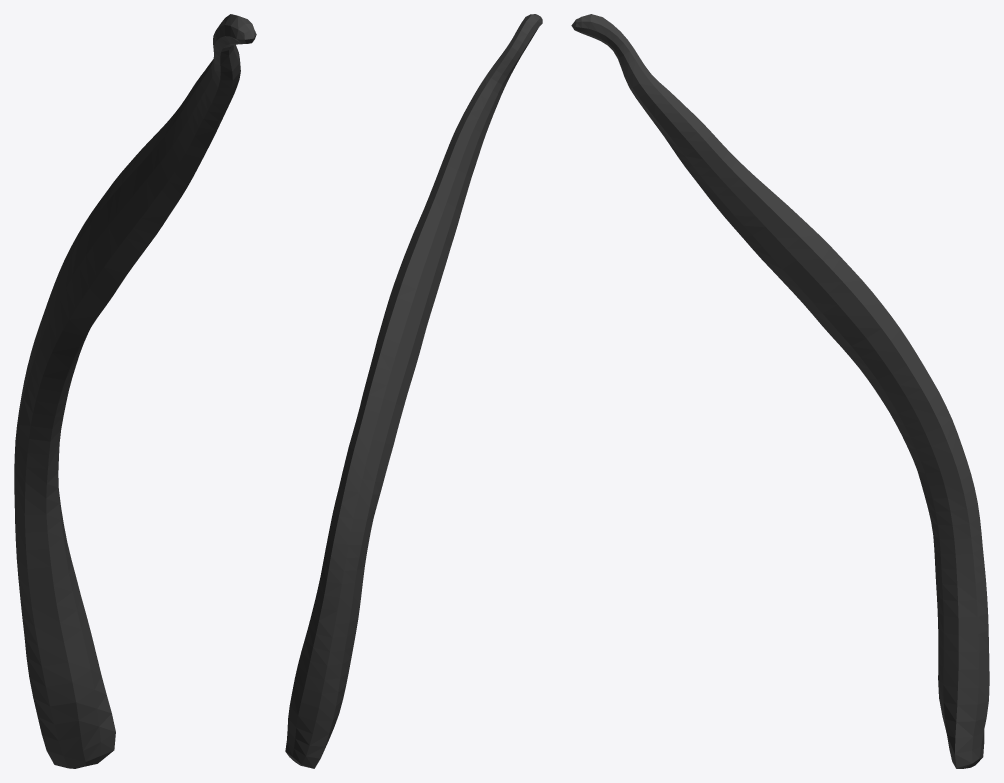
File: Cleidocephalicus_mast.glb
The picture shows the model from 3 angles, left to right: view 1: azimuth 30°, elevation 25°; view 2: azimuth 150°, elevation 25°; view 3: azimuth 270°, elevation 25°; orthographic projection. The views are drawn at different scales.
Parts seen in each view (by area): view 1: Cleidocephalicus_mast; view 2: Cleidocephalicus_mast; view 3: Cleidocephalicus_mast.
Part boxes in pixels (x1,y1,x2,y2): Cleidocephalicus_mast: (14, 14, 256, 768); Cleidocephalicus_mast: (285, 14, 542, 768); Cleidocephalicus_mast: (571, 14, 989, 768).
Size of the model in its own units: 0.1971 by 1.4 by 0.7382.
1 material, 1 textured.
